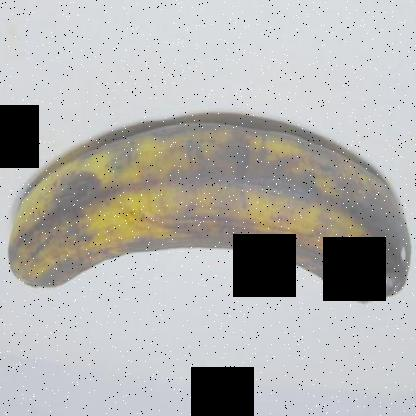overripe: (0, 106, 415, 321)
rotten: (336, 206, 415, 312)
